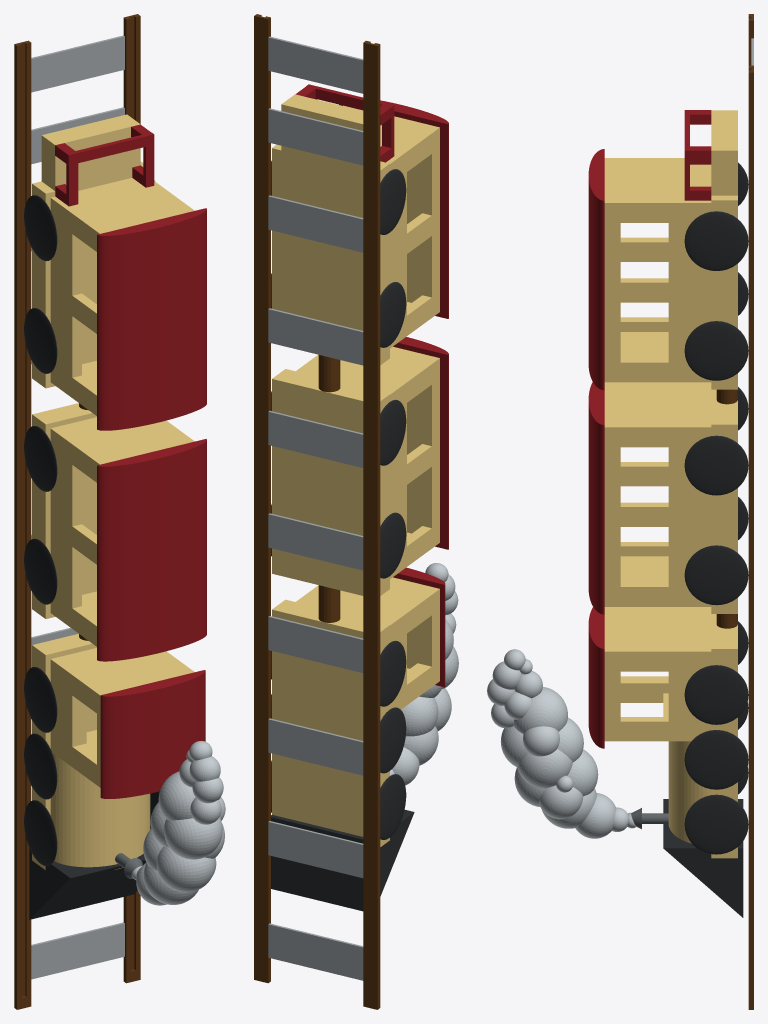
Rendered from tinker.obj.
3 views of the same model, side by side, from view 1: azimuth 30°, elevation 25°; view 2: azimuth 150°, elevation 25°; view 3: azimuth 270°, elevation 25° (orthographic). The views are drawn at different scales.
Visible parts, largest first — view 1: group_0_9771553, group_0_15585410, group_0_6306067, group_0_2829873, group_0_12568524, group_0_10988977; view 2: group_0_15585410, group_0_6306067, group_0_10988977, group_0_2829873, group_0_9771553, group_0_12568524; view 3: group_0_15585410, group_0_2829873, group_0_12568524, group_0_9771553, group_0_6306067.
Part boxes in pixels (<box>): group_0_9771553: <box>55,124,206,798</box>; group_0_15585410: <box>32,114,194,869</box>; group_0_6306067: <box>14,14,140,1009</box>; group_0_2829873: <box>24,180,159,919</box>; group_0_12568524: <box>131,741,225,905</box>; group_0_10988977: <box>31,35,124,979</box>; group_0_15585410: <box>272,94,439,846</box>; group_0_6306067: <box>254,14,380,1009</box>; group_0_10988977: <box>268,36,363,980</box>; group_0_2829873: <box>271,160,414,911</box>; group_0_9771553: <box>295,84,448,687</box>; group_0_12568524: <box>390,563,458,785</box>; group_0_15585410: <box>604,110,737,858</box>; group_0_2829873: <box>663,162,748,917</box>; group_0_12568524: <box>487,649,636,838</box>; group_0_9771553: <box>588,110,711,748</box>; group_0_6306067: <box>716,14,753,1009</box>.
Size of the model in its own units: 26 by 194 by 50.05.
